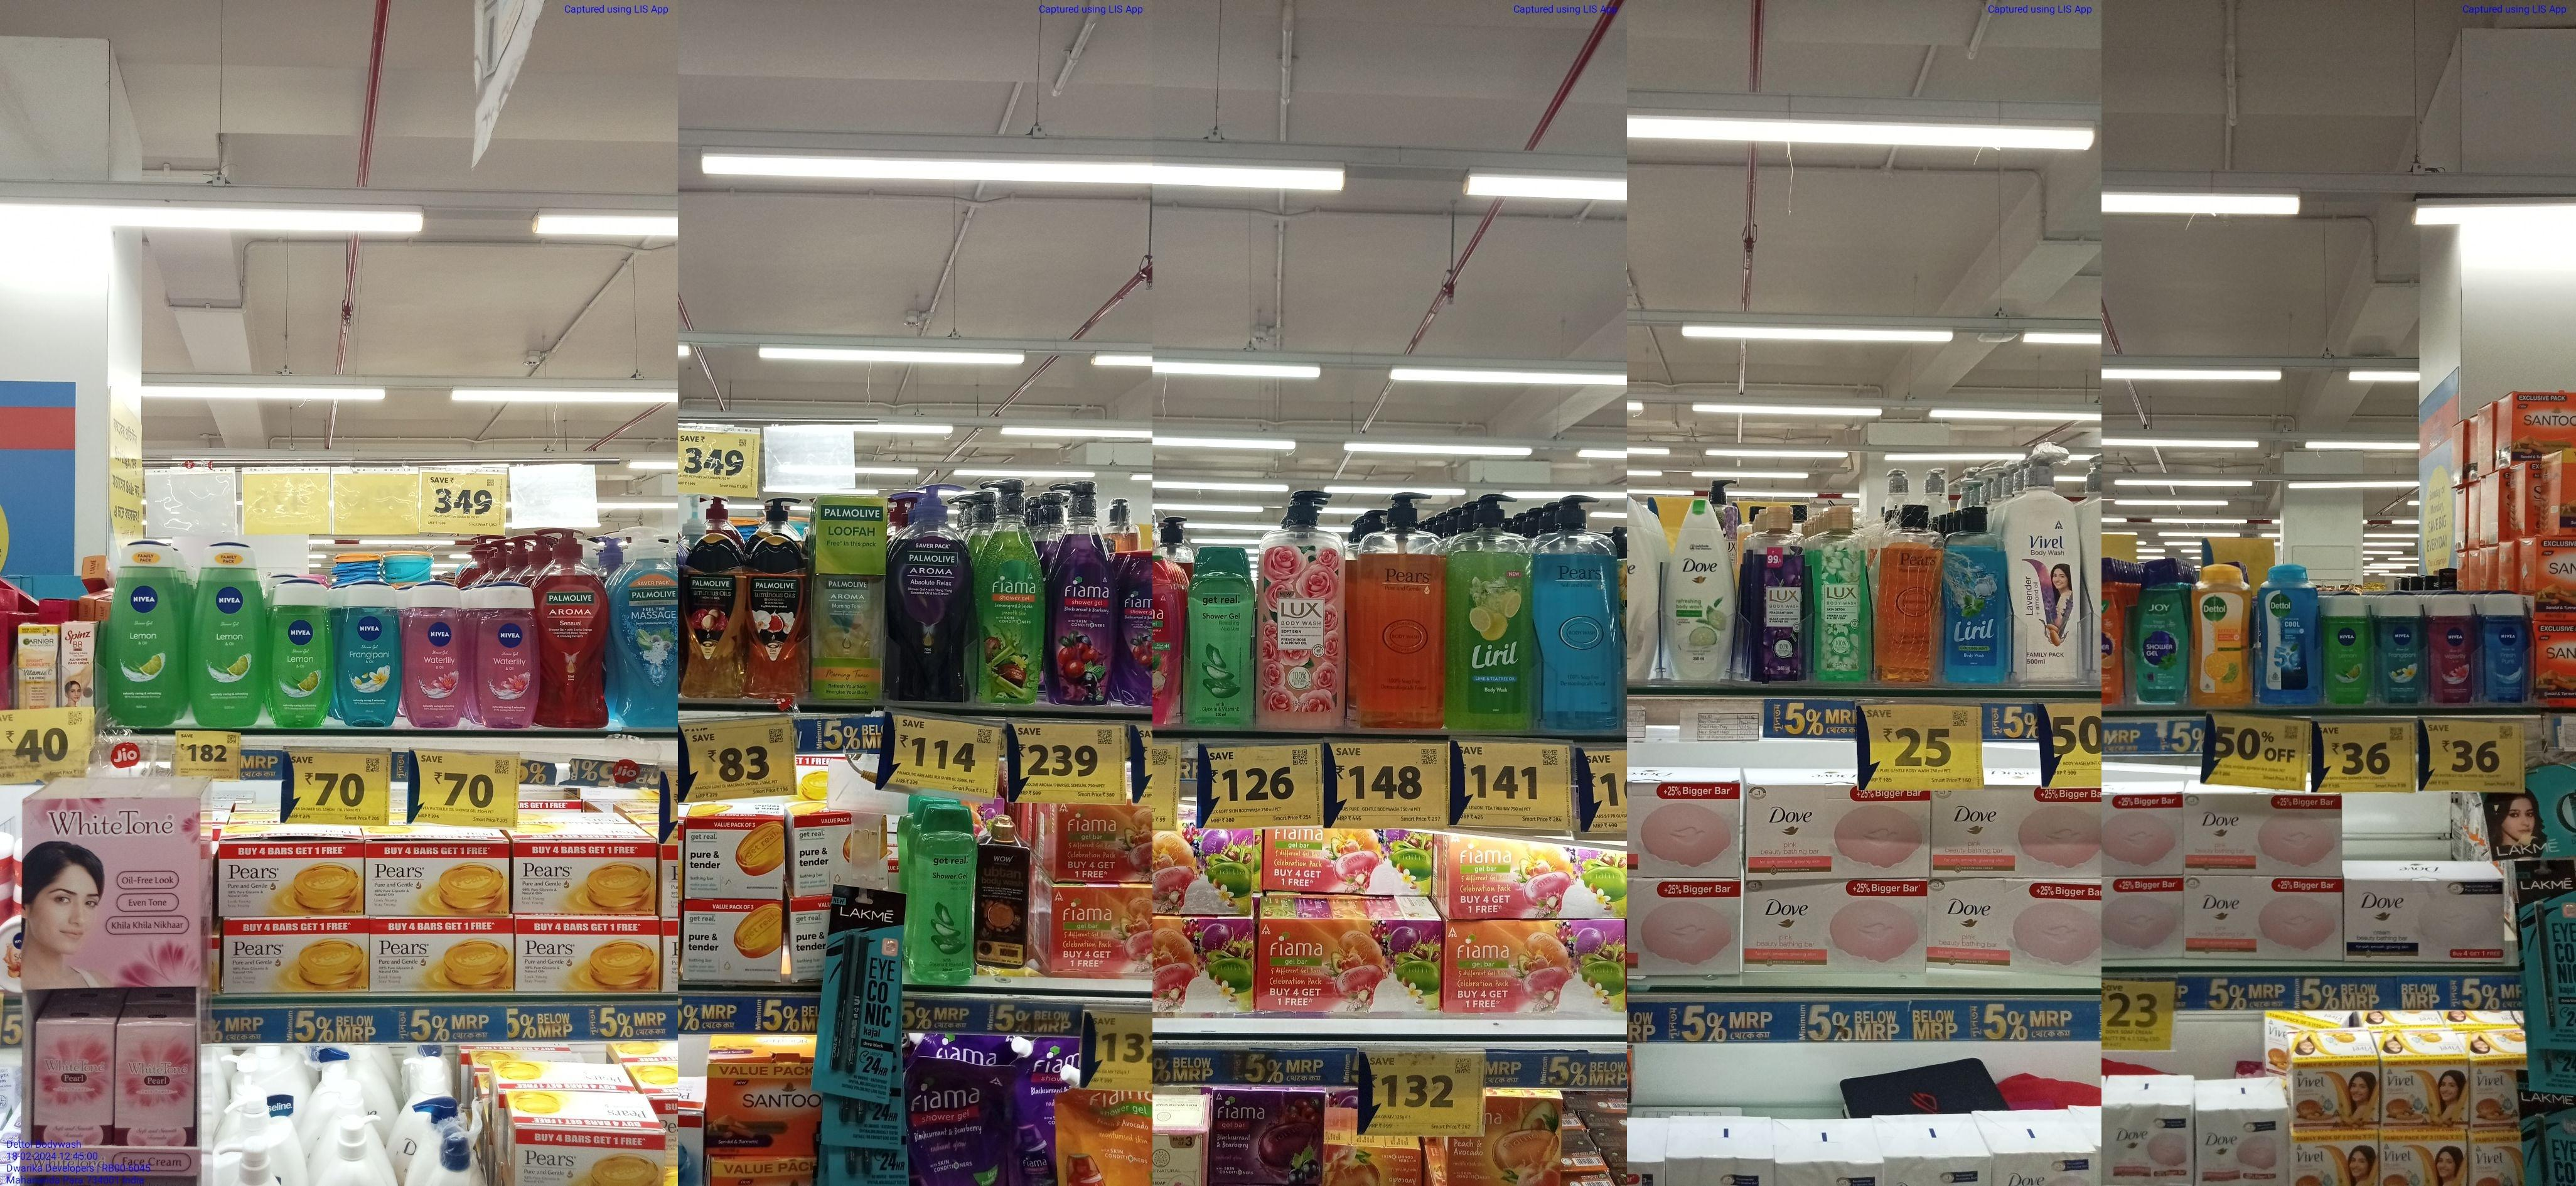Dettol_Bodywash_Cool: (2256, 565, 2316, 706)
Dettol_Bodywash_Refresh: (2188, 562, 2251, 708)
Dove_Refreshing_Body_Wash_250ML: (1667, 498, 1730, 683)
Joy_Shower_Gel_Mint_and_Eucalyptus_250ML: (2134, 555, 2187, 703)
Liril_Cooling_Mint_Body_Wash_250ML: (1943, 506, 2009, 688)
Lux_Black_Orchid_Scent_and_Juniper_Oil_Body_Wash_245ML: (1750, 504, 1805, 688)
Lux_Body_Wash_Skin_Detox_Freesia_Scent_and_Alove_Vera_245ML: (1812, 499, 1870, 680)
Nivea_Shower_Gel_Frangipani_and_Oil_250ML: (338, 582, 402, 726)
Nivea_Shower_Gel_Lemon_and_Oil_250ML: (105, 539, 182, 729), (189, 544, 264, 726), (269, 580, 332, 729)
Nivea_Shower_Gel_Waterlily_and_Oil_250ML: (473, 582, 537, 729), (407, 582, 463, 731)
Palmolive_Luminous_Oils_Invigorating_Macadamia_Oil_With_Peony_250ML: (683, 532, 743, 698)
Palmolive_Luminous_Oils_With_White_Orchid_Shower_Gel_250ML: (747, 531, 803, 693)
